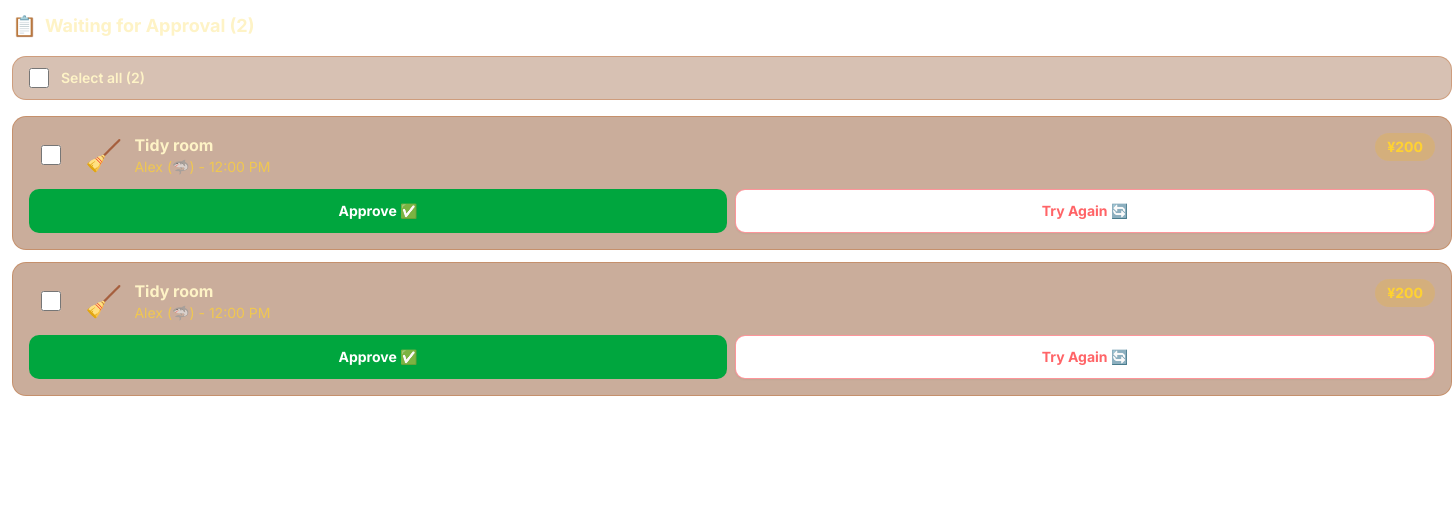
Test case: ApprovalQueue › Wave 8b — bulk-approve › shows a success toast + clears selection when every approval succeeds
What coordinates should you click on to do the following:
click the checkbox with test id "approval-queue-select-all-checkbox"
I would click on:
 (39, 78)
Its box is [29, 68, 49, 88].
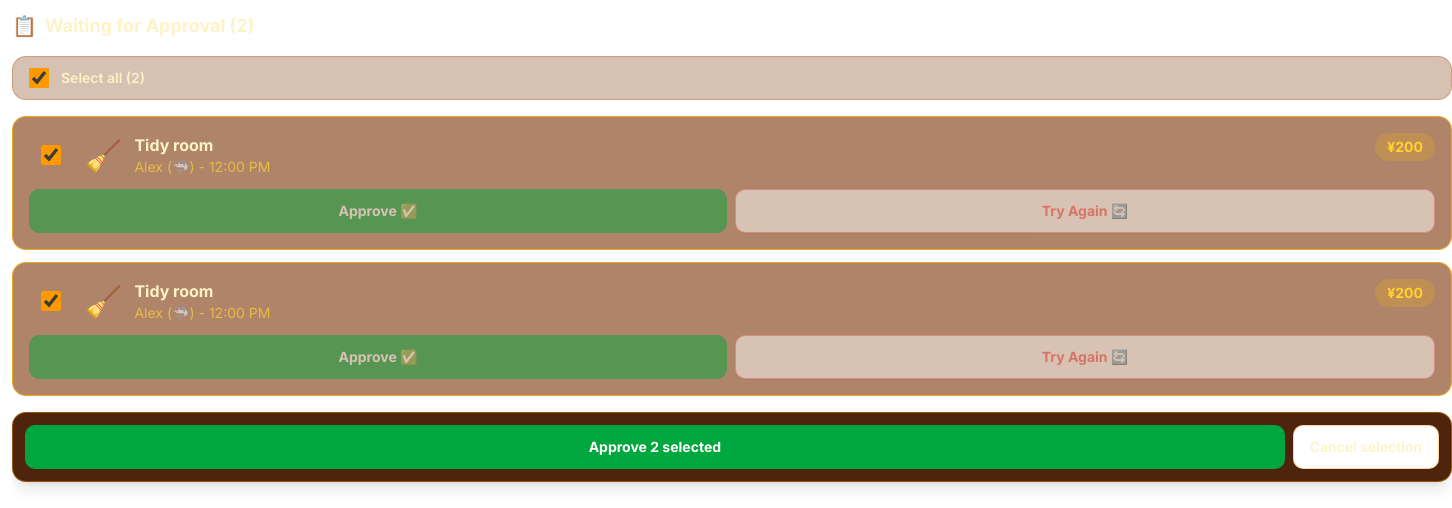
What coordinates should you click on to do the following:
click the button with test id "approval-queue-bulk-approve"
I would click on:
 (655, 447)
Its box is [25, 425, 1285, 469].
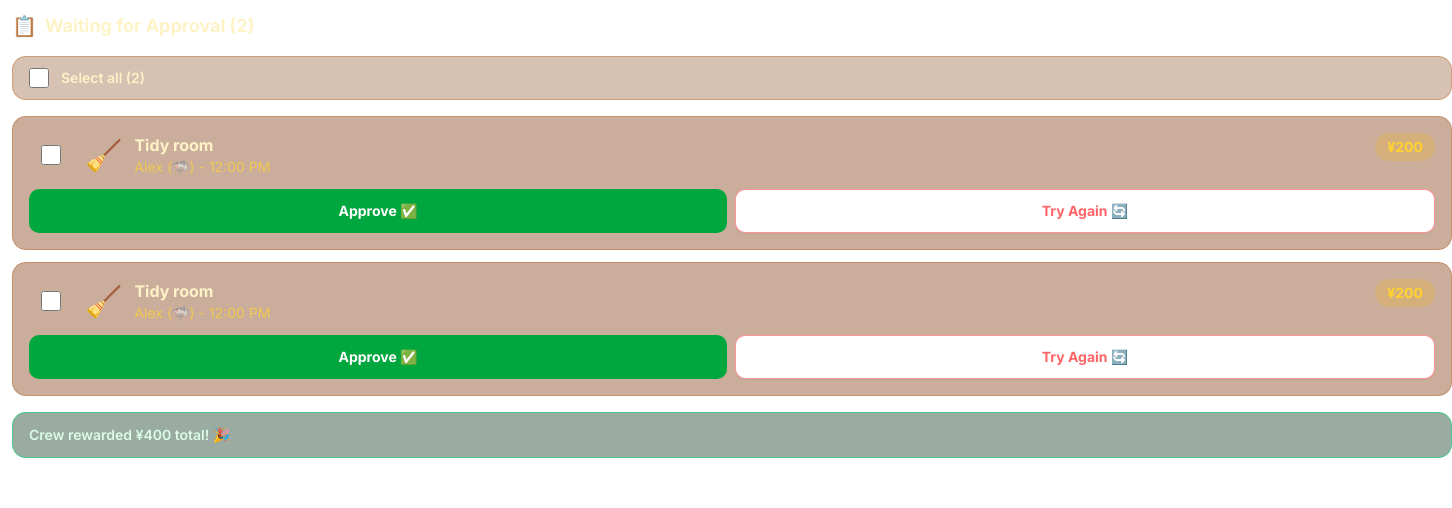
Expected: the text "Crew rewarded ¥400 total! 🎉" is shown, [12, 412, 1451, 458]
Expected: the text with test id "approval-queue-bulk-result" shows "¥400", [29, 426, 230, 443]
Expected: the element with test id "approval-queue-bulk-bar" is gone
